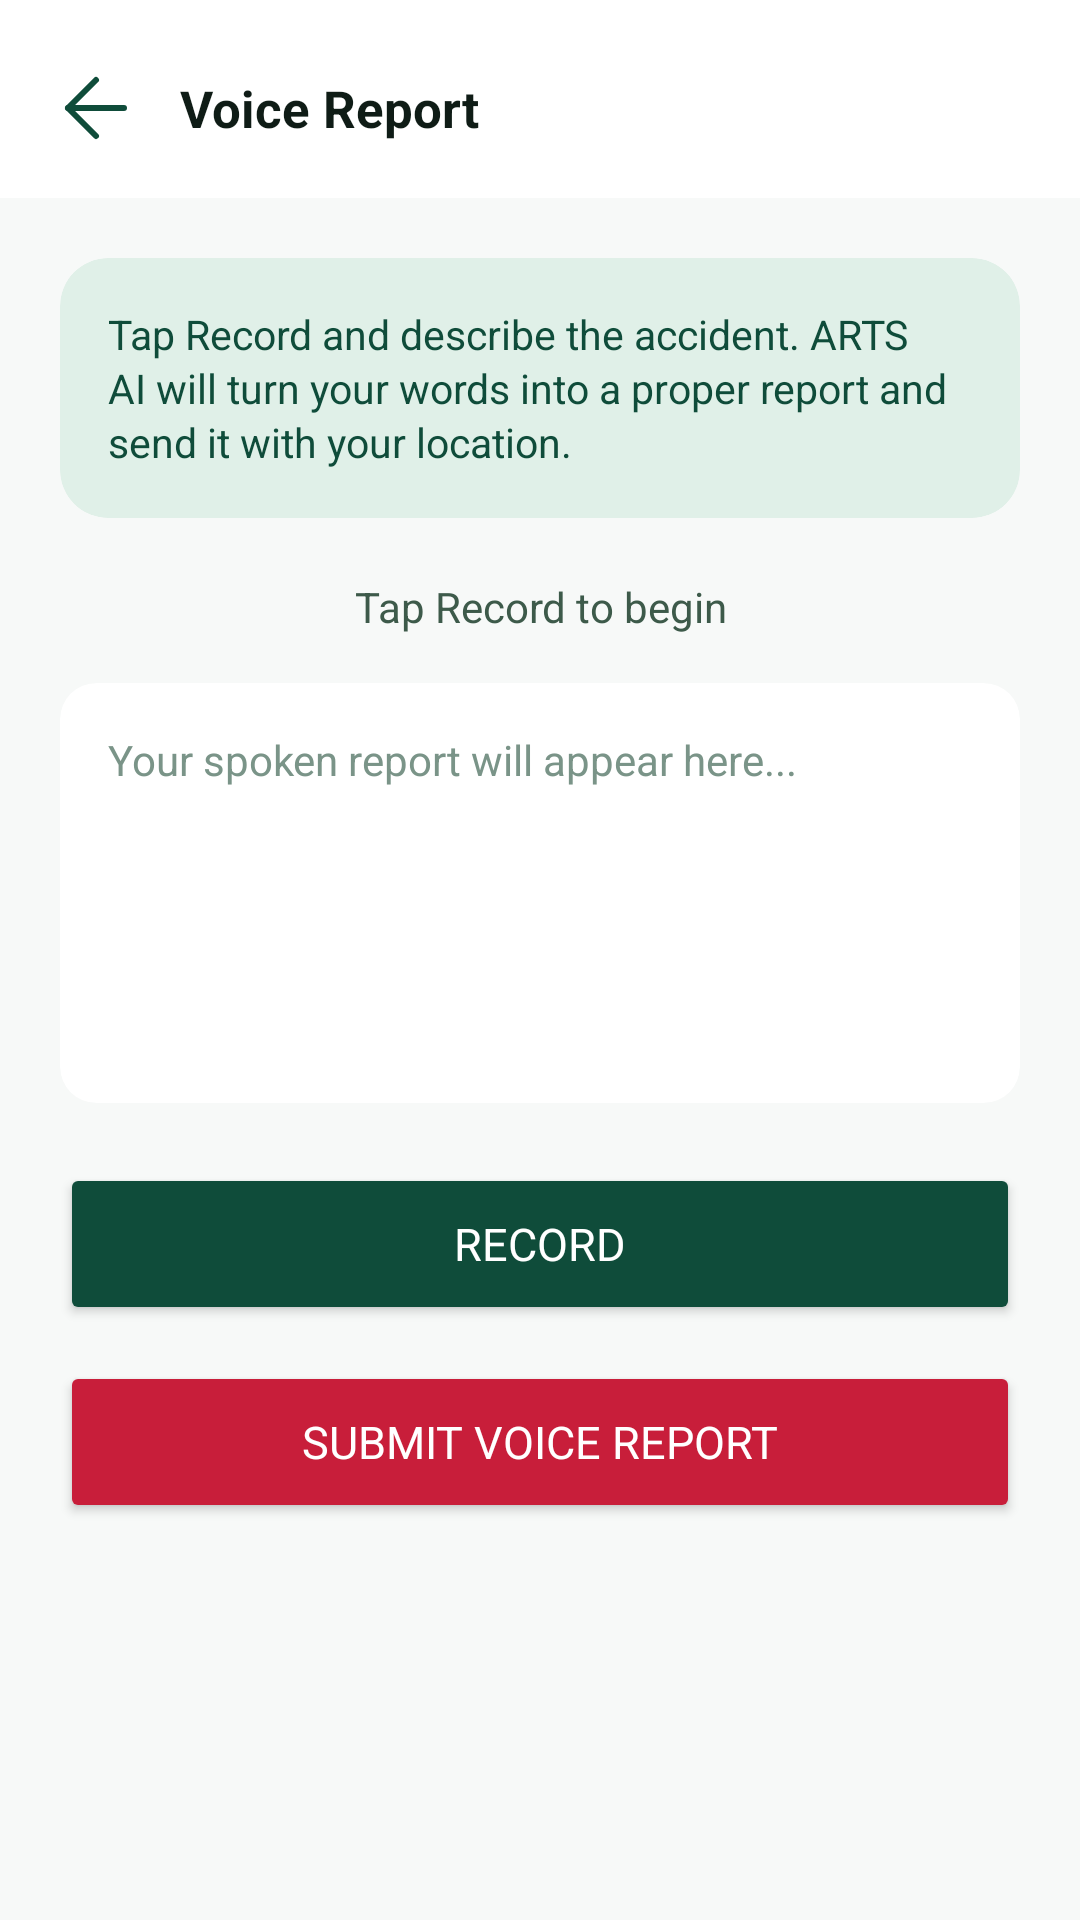

Screen size 1080 x 1920. Icon name, then its box in pixels as region(x1, y1, x2, y2):
back: region(65, 76, 127, 139)
